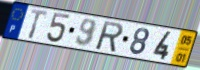4: (151, 31, 173, 62)
5: (46, 12, 72, 44)
8: (128, 28, 150, 57)
9: (74, 18, 97, 49)
R: (95, 20, 125, 54)
T: (27, 8, 50, 41)
